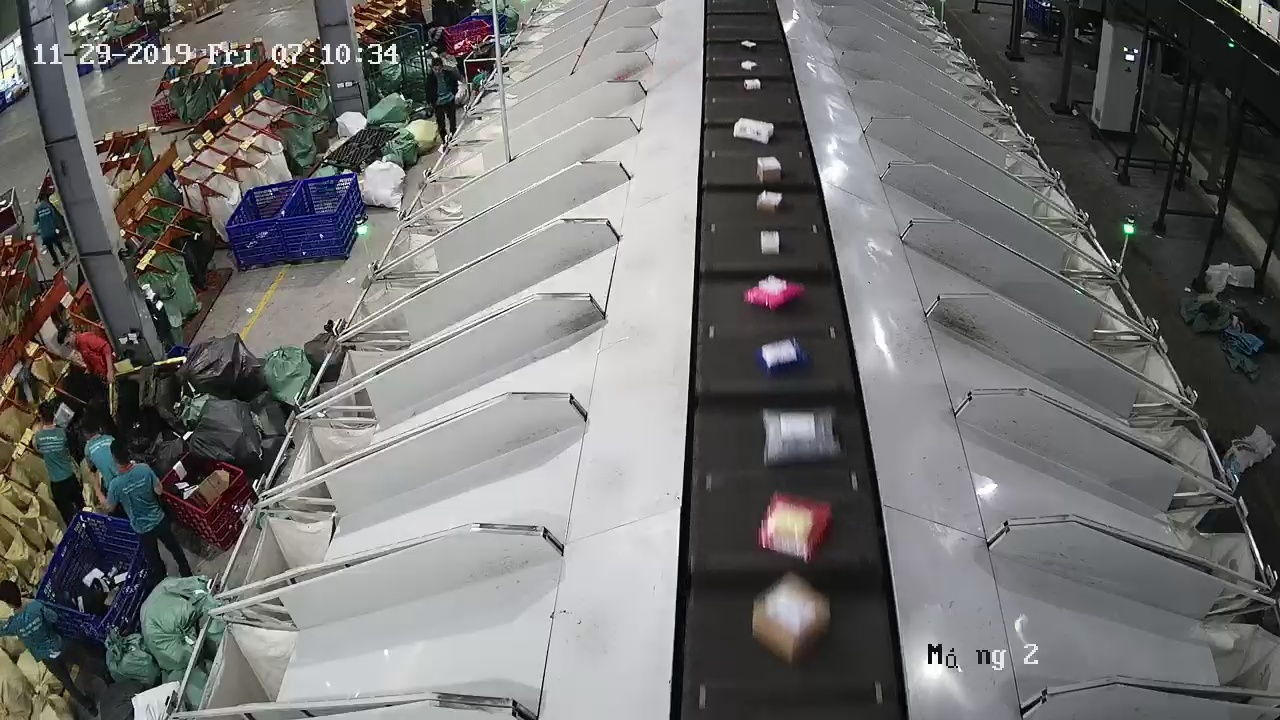parcel: (751, 571, 831, 668), (757, 490, 833, 563), (762, 405, 845, 468), (743, 274, 806, 311), (756, 337, 809, 375), (733, 117, 775, 146), (757, 156, 782, 183), (756, 190, 783, 213), (760, 230, 780, 256)
